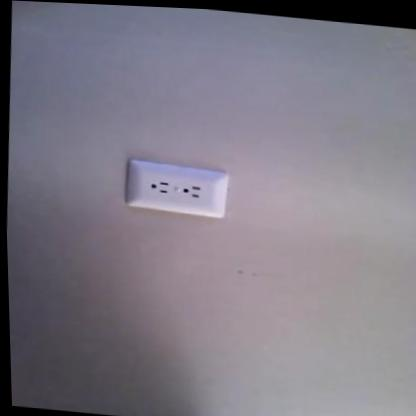OUTLET: (126, 160, 229, 217)
